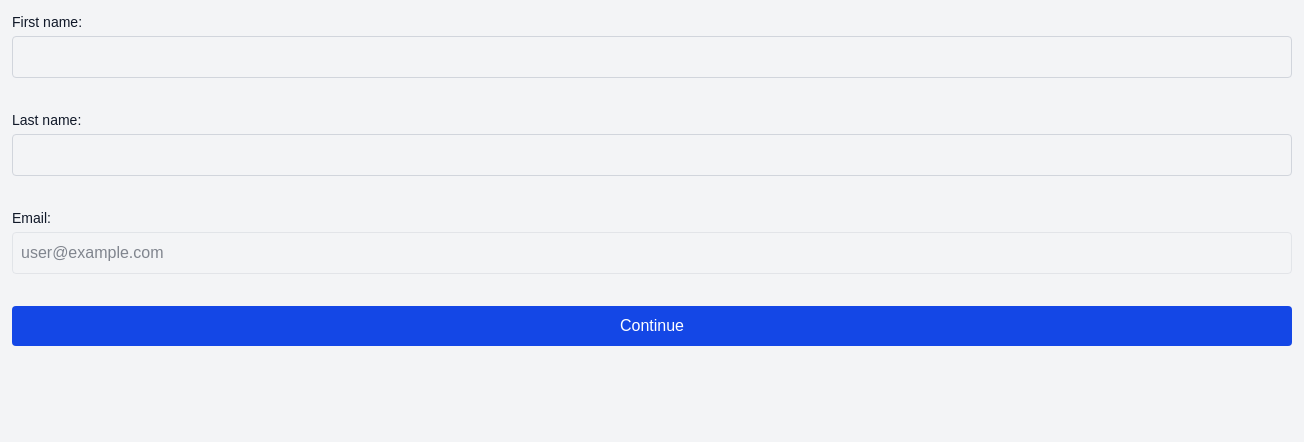
Test: CompleteSignUpForm › errors › shows an error when there is no Firebase user on submit
Type "Jane" into the field labelled "First name:" at (652, 57), box [12,36,1292,78]
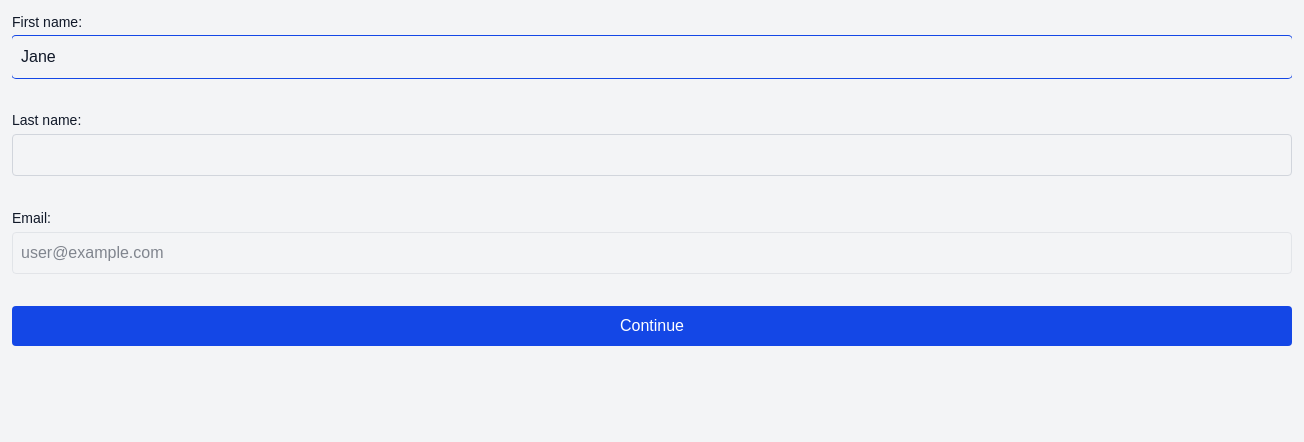
Type "Doe" into the field labelled "Last name:" at (652, 155), box [12,134,1292,176]
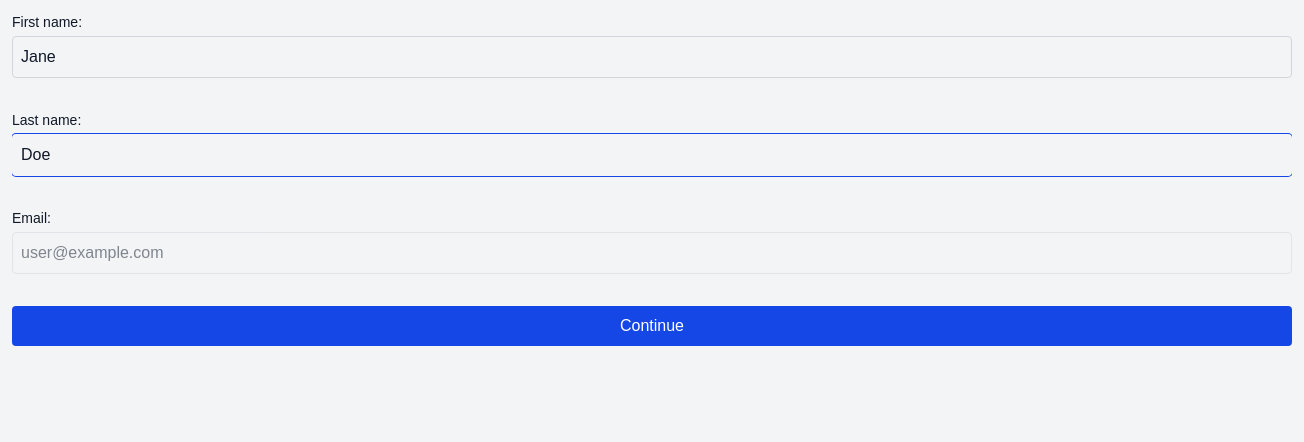
Click the button "Continue" at (652, 326), box [12,306,1292,346]
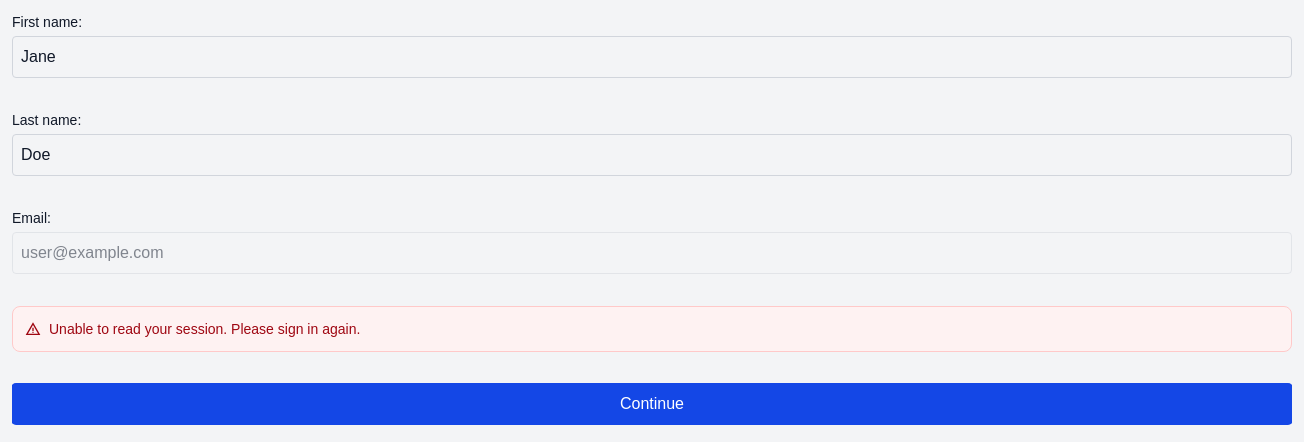
Expected: the text "Unable to read your session. Please sign in again." is shown, [25,321,360,337]
